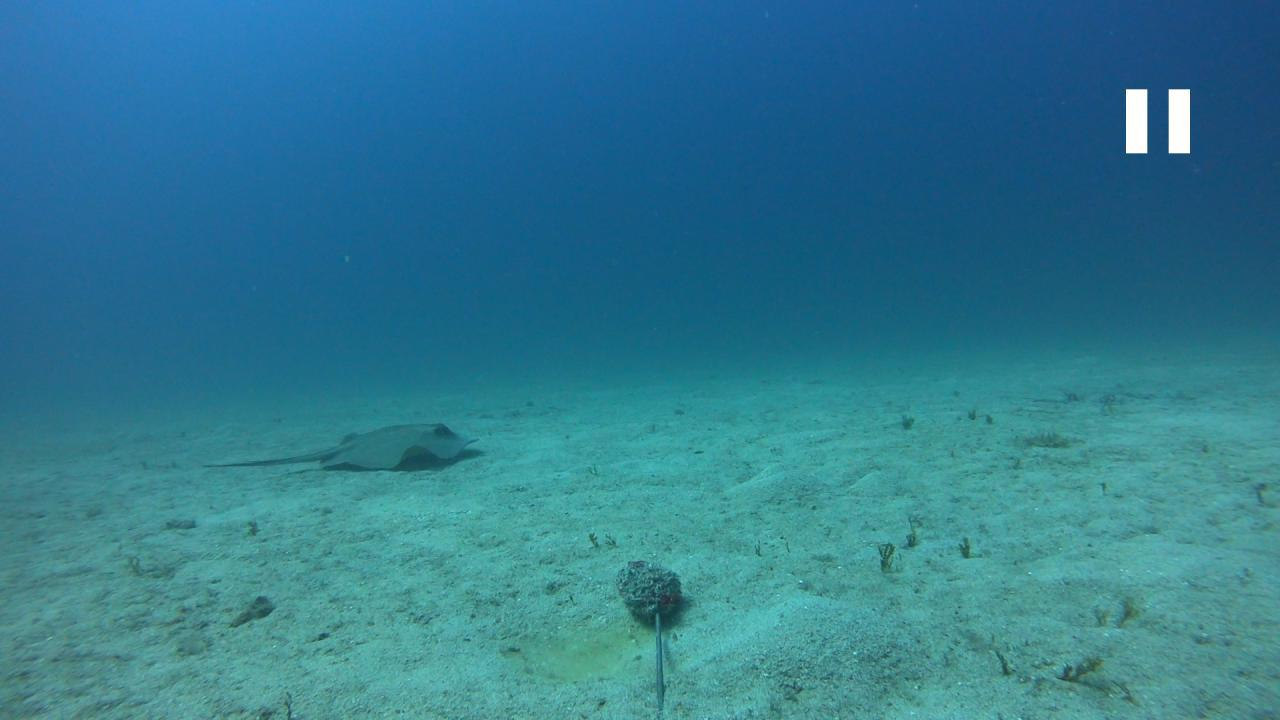dasyatis: (202, 422, 477, 470)
